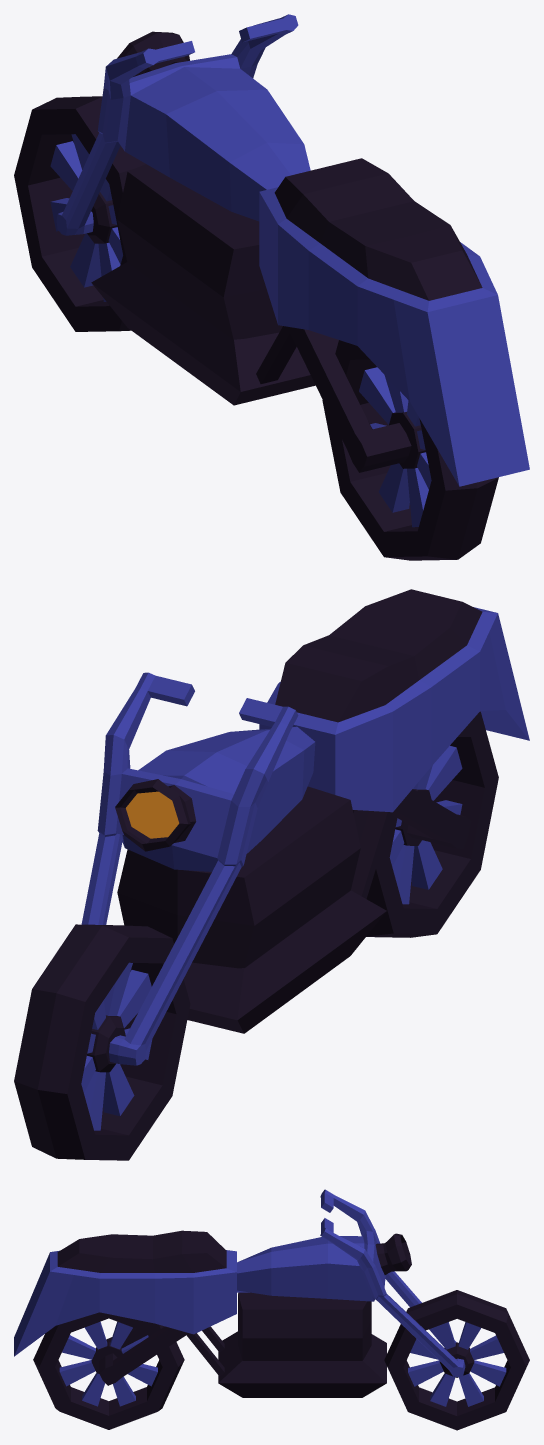
The model's file is bike.obj.
3 views of the same model, one above another, from view 1: azimuth 30°, elevation 25°; view 2: azimuth 150°, elevation 25°; view 3: azimuth 270°, elevation 25° (orthographic). The views are drawn at different scales.
Visible parts, largest first — view 1: Circle; view 2: Circle; view 3: Circle.
Boxes of the visible parts, box(x1,y1,x2,y2) form: Circle: box(14, 14, 529, 560); Circle: box(14, 589, 529, 1160); Circle: box(14, 1189, 529, 1430).
Size of the model in its own units: 0.2081 by 0.4876 by 1.04.
